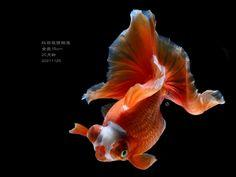goldfish: (78, 32, 201, 169)
